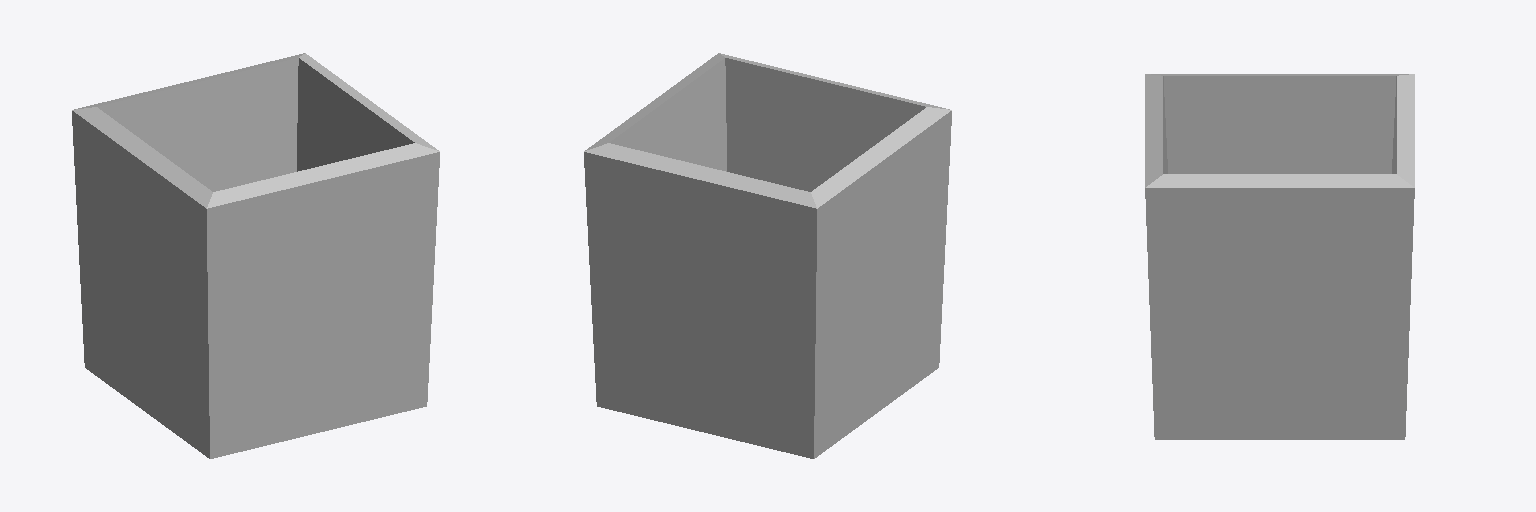
Rendered from outroof.obj.
3 renders of one model, left to right at view 1: azimuth 30°, elevation 25°; view 2: azimuth 150°, elevation 25°; view 3: azimuth 270°, elevation 25°, orthographic.
Parts seen in each view (by area): view 1: bevelroof1:pCube1; view 2: bevelroof1:pCube1; view 3: bevelroof1:pCube1.
Boxes of the visible parts, box(x1,y1,x2,y2) form: bevelroof1:pCube1: box(72, 53, 439, 458); bevelroof1:pCube1: box(584, 53, 951, 458); bevelroof1:pCube1: box(1145, 74, 1414, 439).
Size of the model in its own units: 1.08 by 1.15 by 1.08.